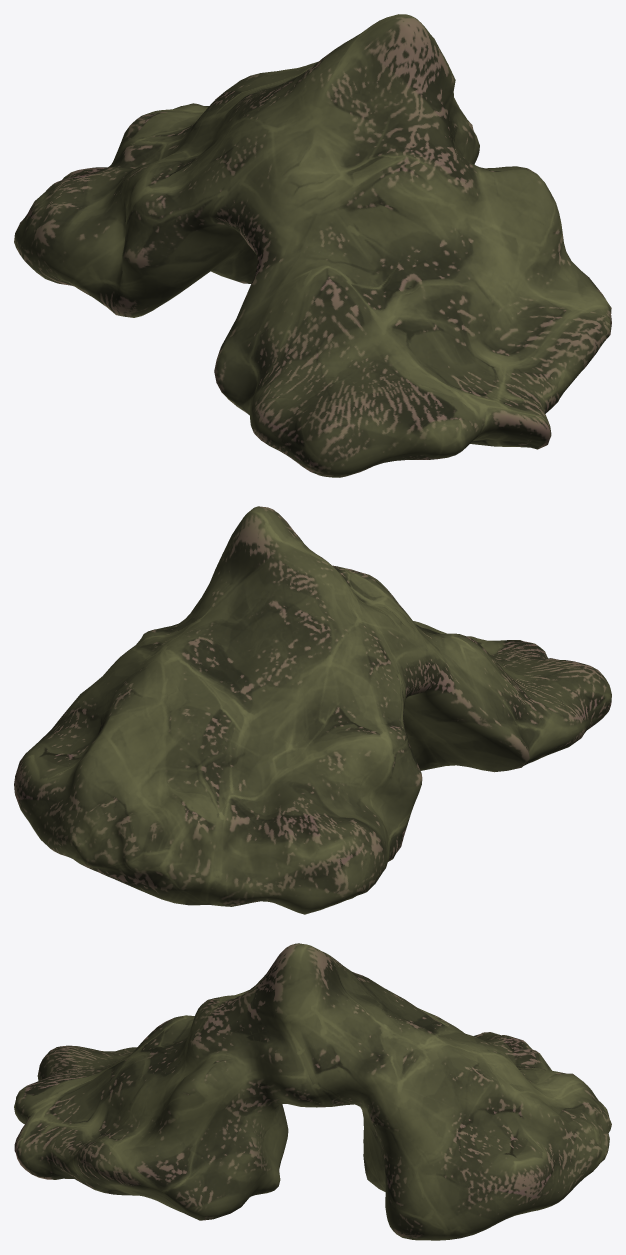
3 renders of one model, top to bottom at view 1: azimuth 30°, elevation 25°; view 2: azimuth 150°, elevation 25°; view 3: azimuth 270°, elevation 25°, orthographic. The views are drawn at different scales.
Parts seen in each view (by area): view 1: Volume10; view 2: Volume10; view 3: Volume10.
Part boxes in pixels (x1,y1,x2,y2): Volume10: [14, 14, 611, 477]; Volume10: [14, 506, 611, 914]; Volume10: [14, 943, 611, 1240].
Size of the model in its own units: 377 by 586 by 271.
1 material, 1 textured.
